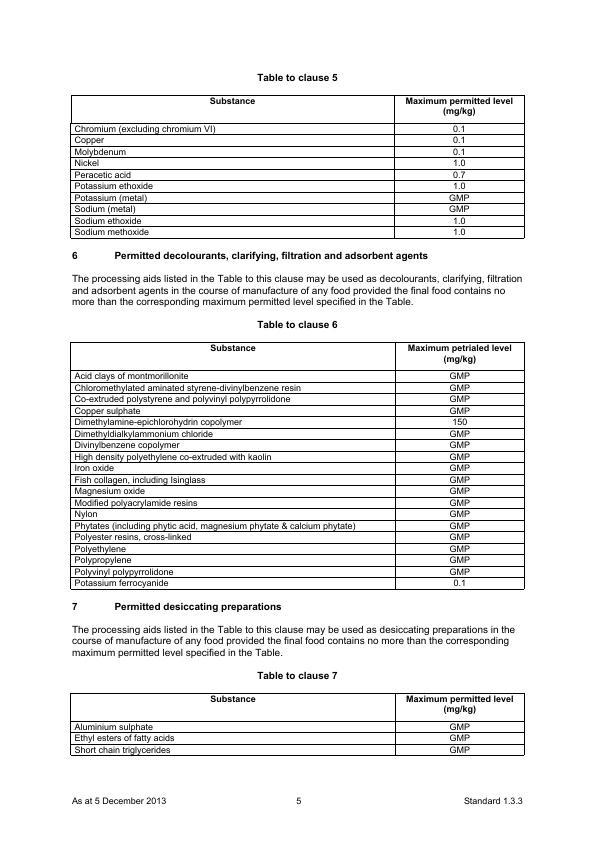table: (64, 339, 533, 594), (68, 90, 531, 243), (66, 689, 533, 765)
text: (67, 247, 526, 311), (67, 600, 527, 663), (254, 70, 343, 87), (252, 316, 345, 332), (255, 667, 342, 683)
